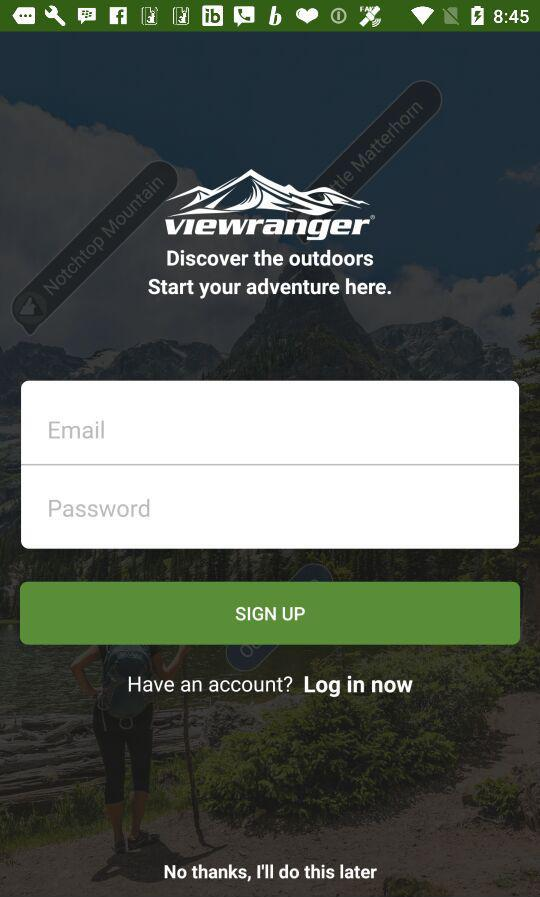BackgroundImage: (1, 33, 540, 897)
EditText: (22, 465, 519, 550), (22, 382, 519, 466)
Image: (164, 169, 376, 242)
Text: (148, 249, 392, 301), (164, 863, 378, 883), (128, 675, 293, 693), (304, 675, 414, 698), (49, 498, 151, 518), (50, 421, 105, 441)
TextButton: (21, 582, 521, 646)
UpperTaskBar: (1, 1, 540, 33)
